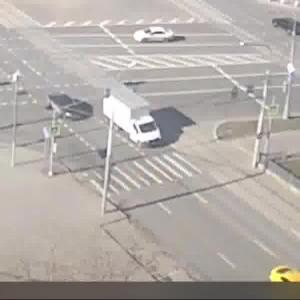car: (104, 84, 164, 150), (50, 89, 88, 125), (133, 22, 178, 48)
